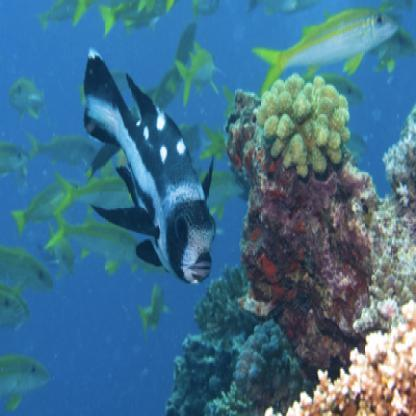Bio: (75, 39, 216, 286)
